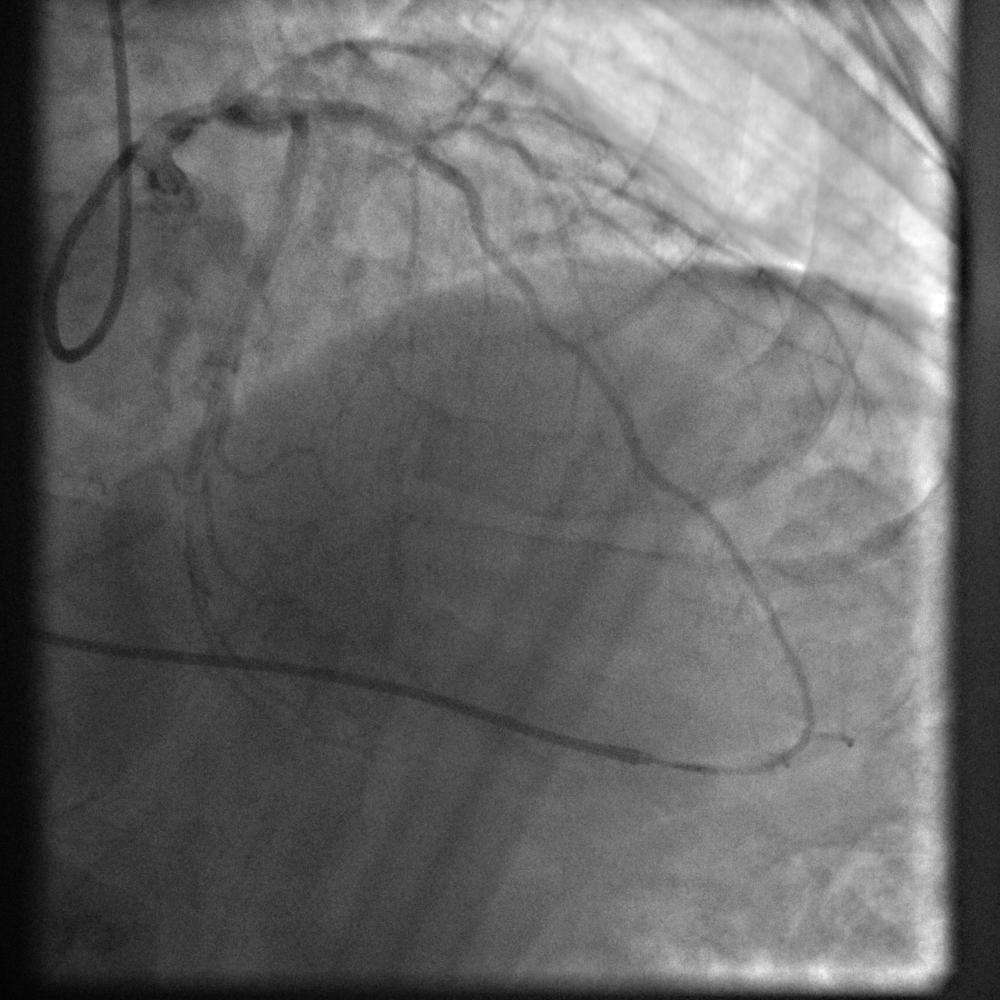Stenosis: (391, 116, 473, 159)
